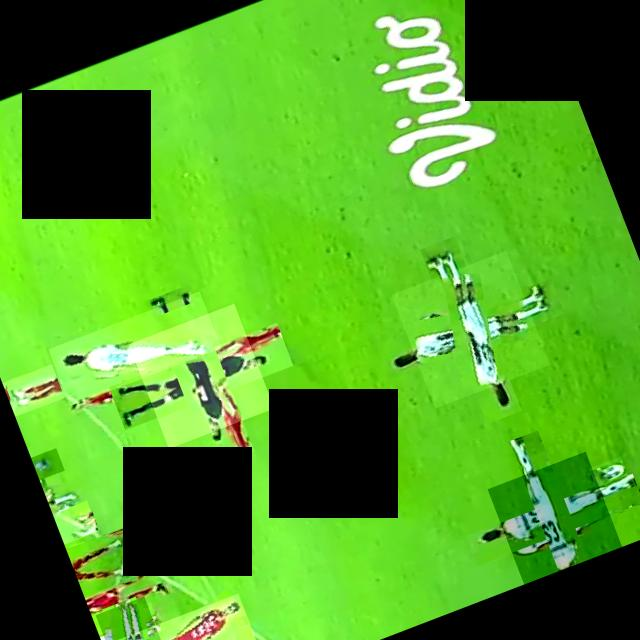ball: (588, 456, 627, 487)
referee: (128, 304, 274, 449)
soccer-player: (390, 251, 550, 409), (48, 292, 220, 406), (486, 452, 622, 585), (102, 593, 260, 640), (66, 528, 142, 599), (1, 364, 64, 417), (94, 596, 162, 640), (52, 501, 98, 545), (30, 448, 64, 481)
